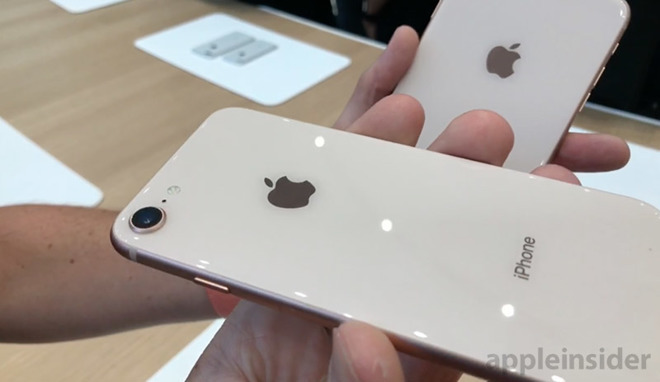apple: (253, 168, 325, 220), (475, 29, 536, 84)
